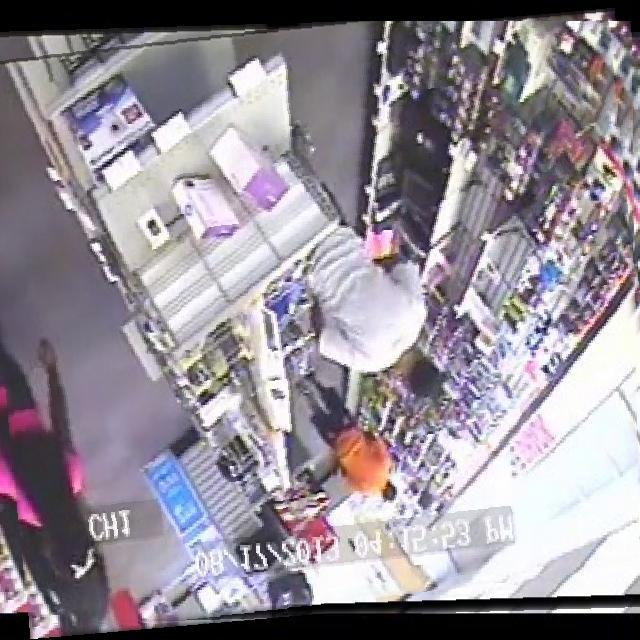Normal: (0, 21, 640, 626)
